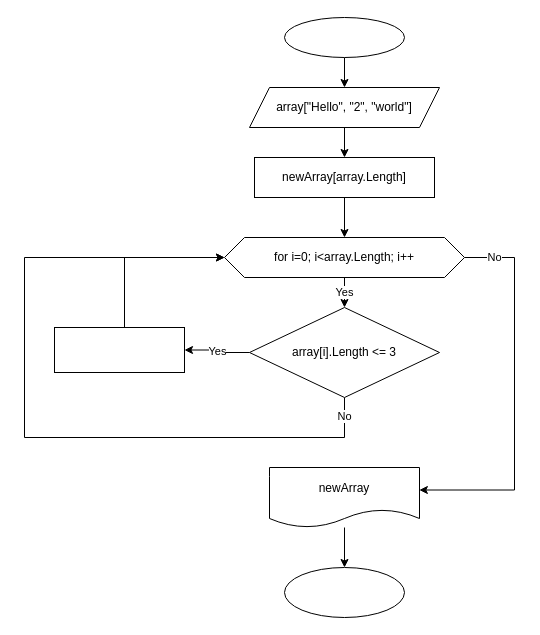
This 540x635 diagram has some shape labels left out. Here are the shapes that lost their labels. From the top down, the centre of each, then its label:
the point at 344,37: start
the point at 119,349: newArray[i] = array[i]
the point at 344,592: end
